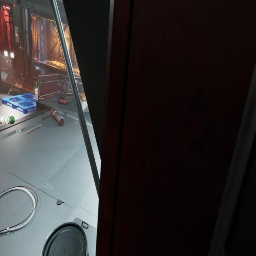0: (0, 116, 18, 124), (35, 81, 38, 100), (41, 98, 44, 99)
FireExtinguisher ]: (58, 98, 70, 105)
NitrogenTank ,: (50, 109, 64, 126)
SafetySwitchPanel ,: (15, 26, 20, 43)
